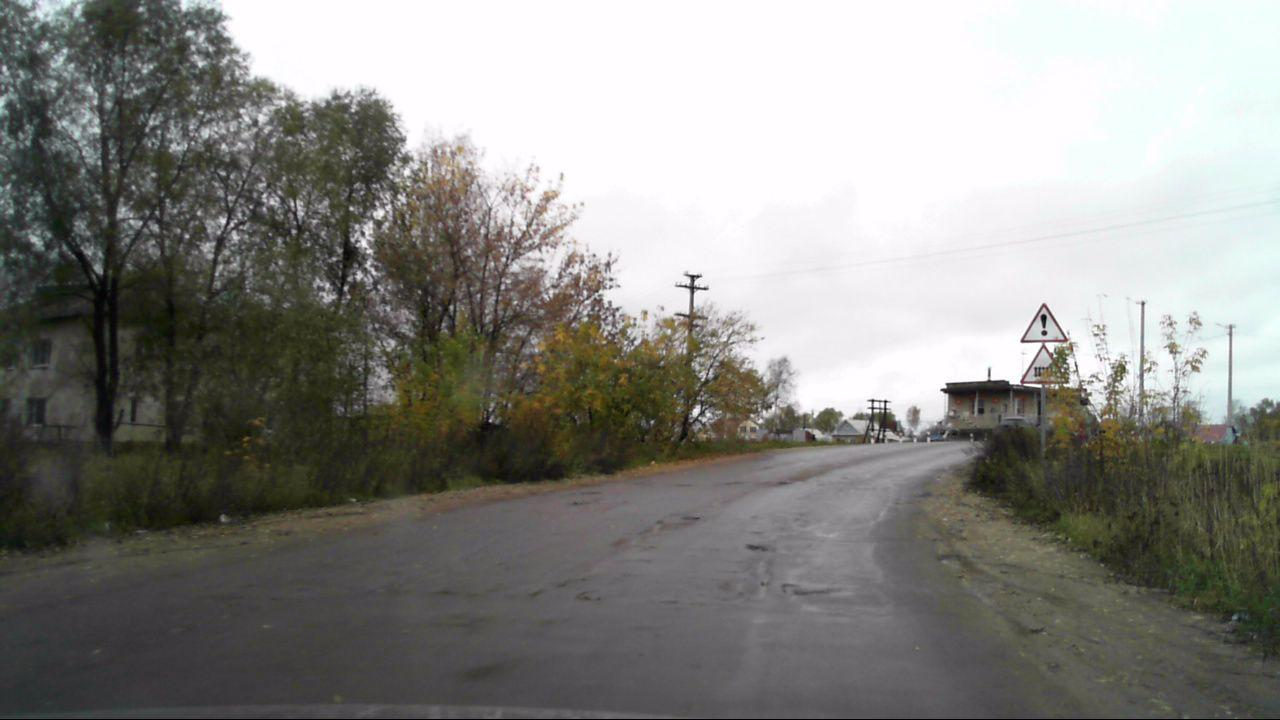1_1: (1019, 344, 1068, 384)
1_33: (1020, 302, 1068, 343)
